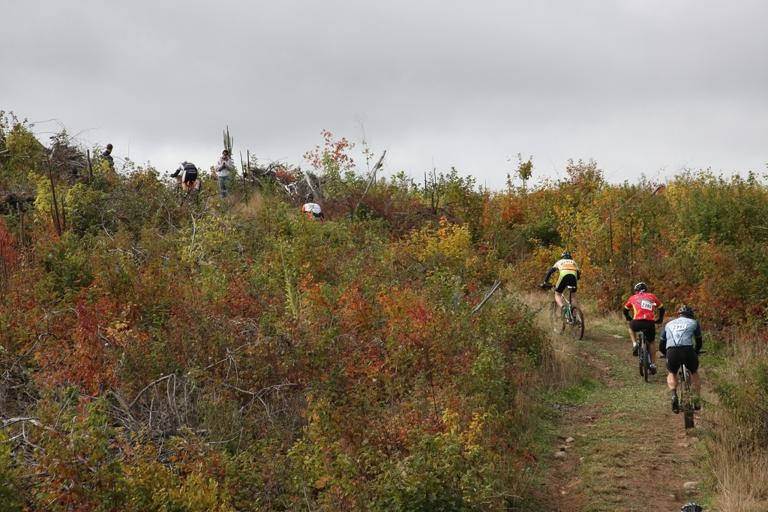non-vehicle: (658, 349, 706, 432), (539, 282, 586, 338), (625, 316, 661, 380), (169, 172, 202, 207)
